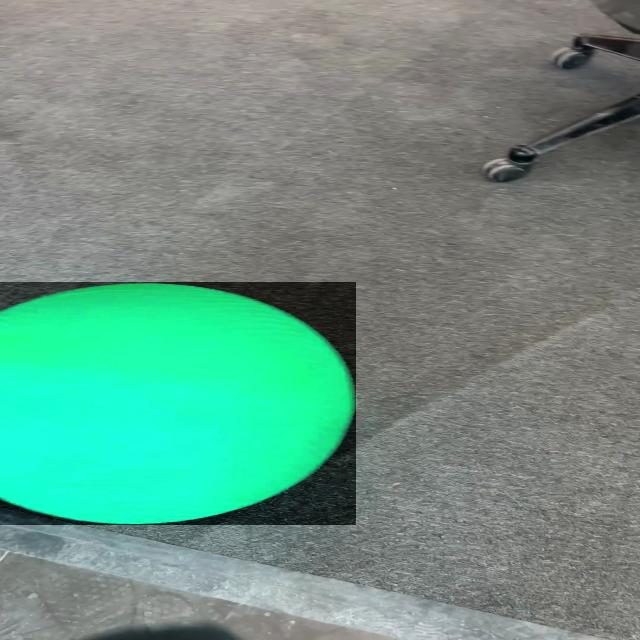Algae: (1, 282, 357, 525)
